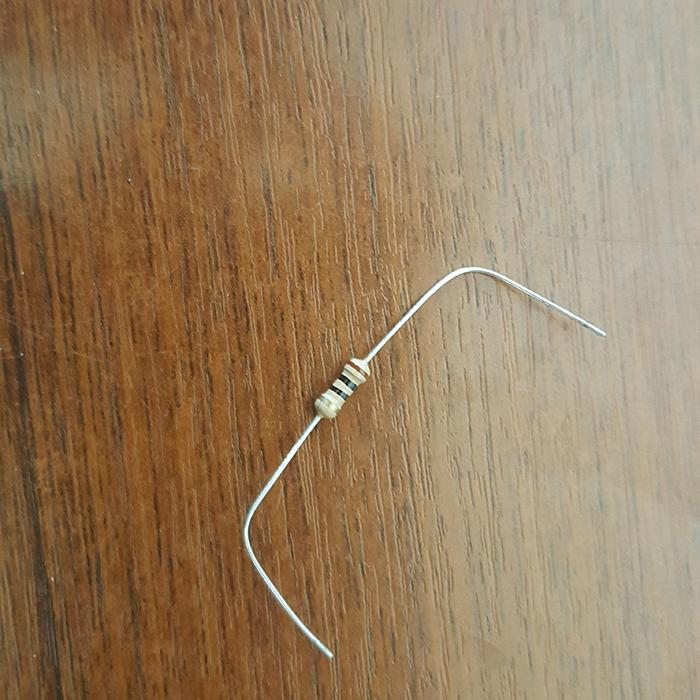resistor: (315, 356, 371, 420)
